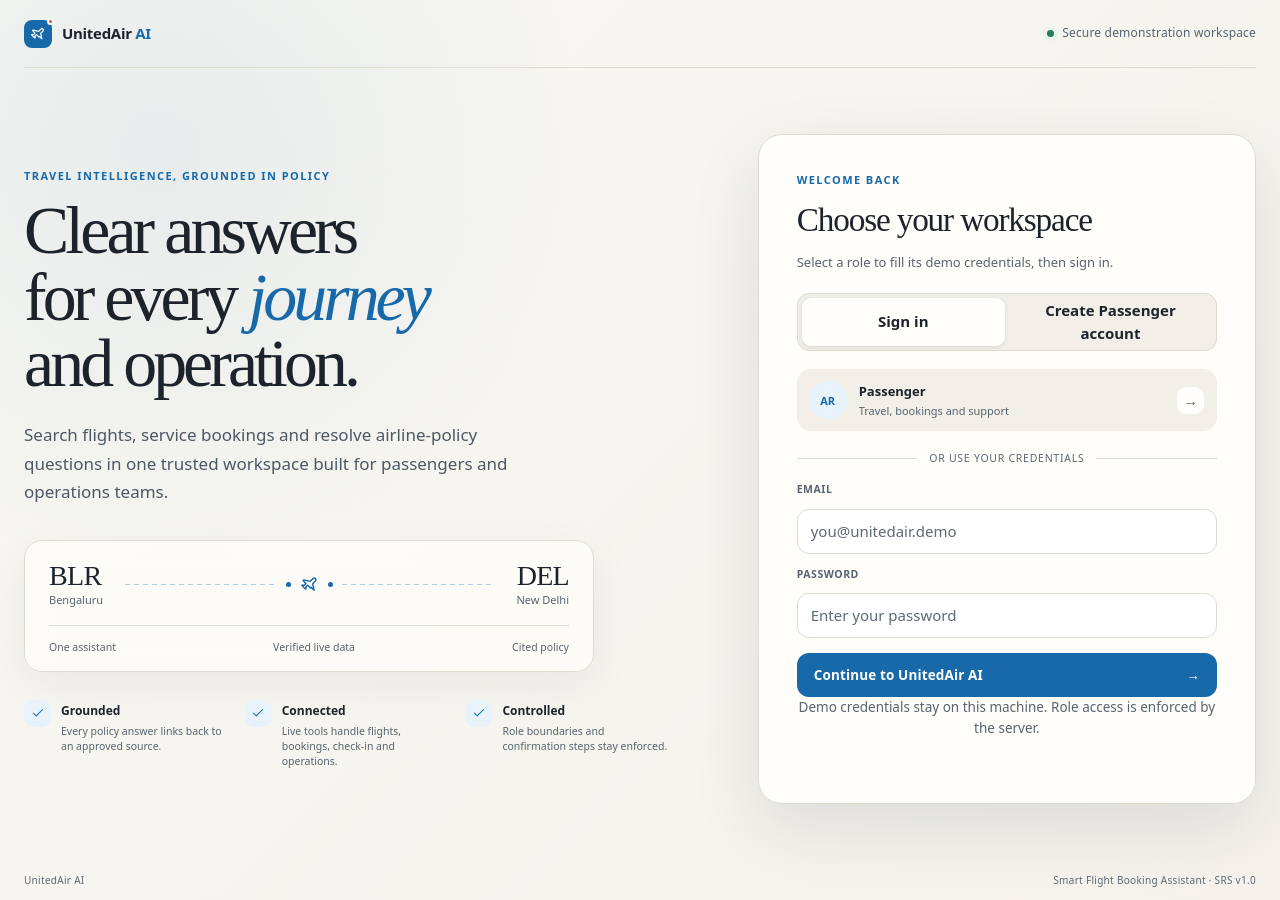
Test case: LoginPage demo roles › lets the Passenger role choose either demo identity before sign-in
This screenshot has width=1280, height=900.
Click the button with aria-label "passenger demo": (828, 400) 797,369 -> 1217,431
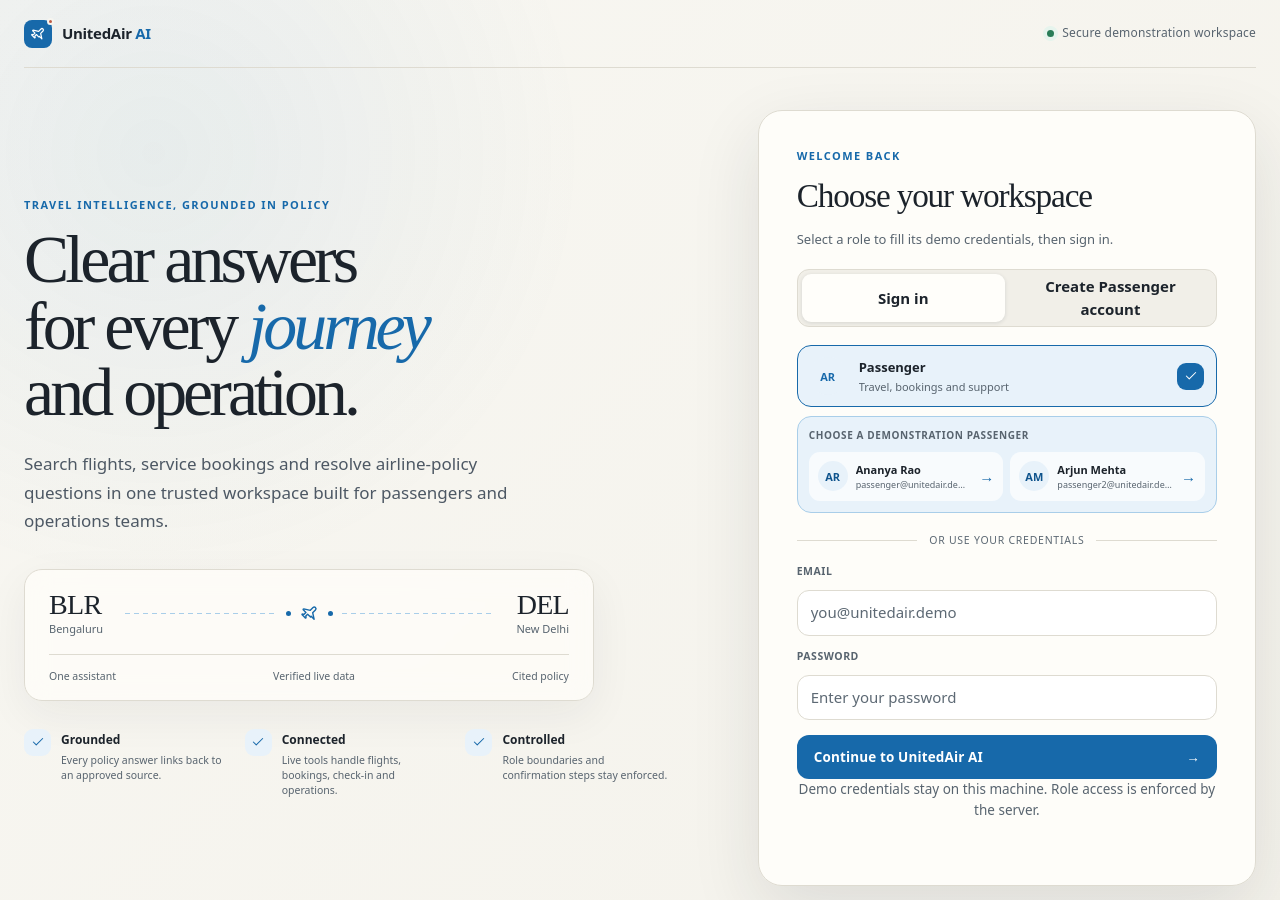
Result: the element named "Passenger demo accounts" is shown at 797,416 -> 1217,513
Click the button "AM Arjun Mehta passenger2@unitedair.demo →": (1108, 476) 1010,452 -> 1205,501
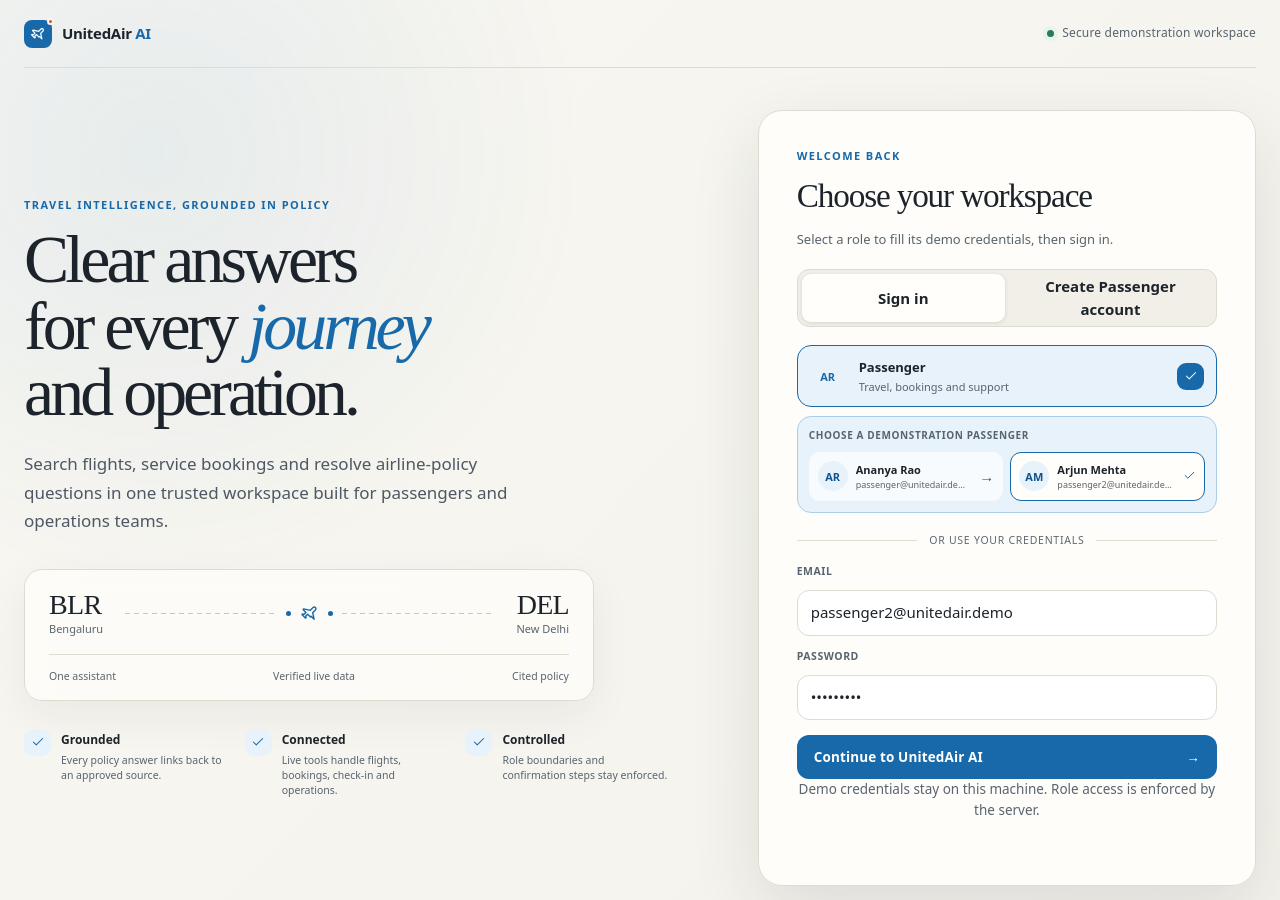
Result: the field labelled "Email" holds "passenger2@unitedair.demo" at 797,590 -> 1217,636
Result: the password field labelled "Password" holds "Demo!2026" at 797,675 -> 1217,720
